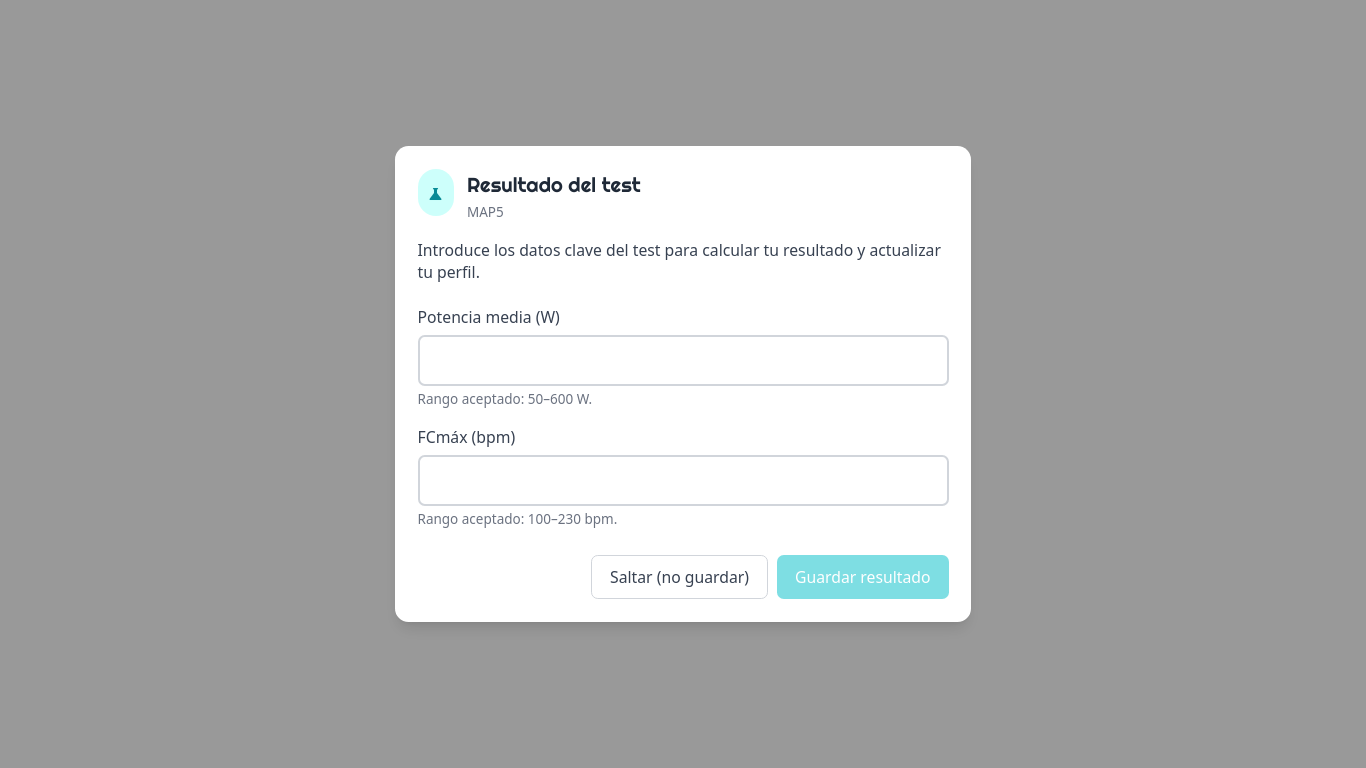
Test: TestResultDialog › protocolos con 2 inputs requieren ambos para habilitar Guardar
Type "280" into the number field labelled "Potencia media (W) Rango aceptado: 50–600 W." at (683,360), box [418,335,948,386]
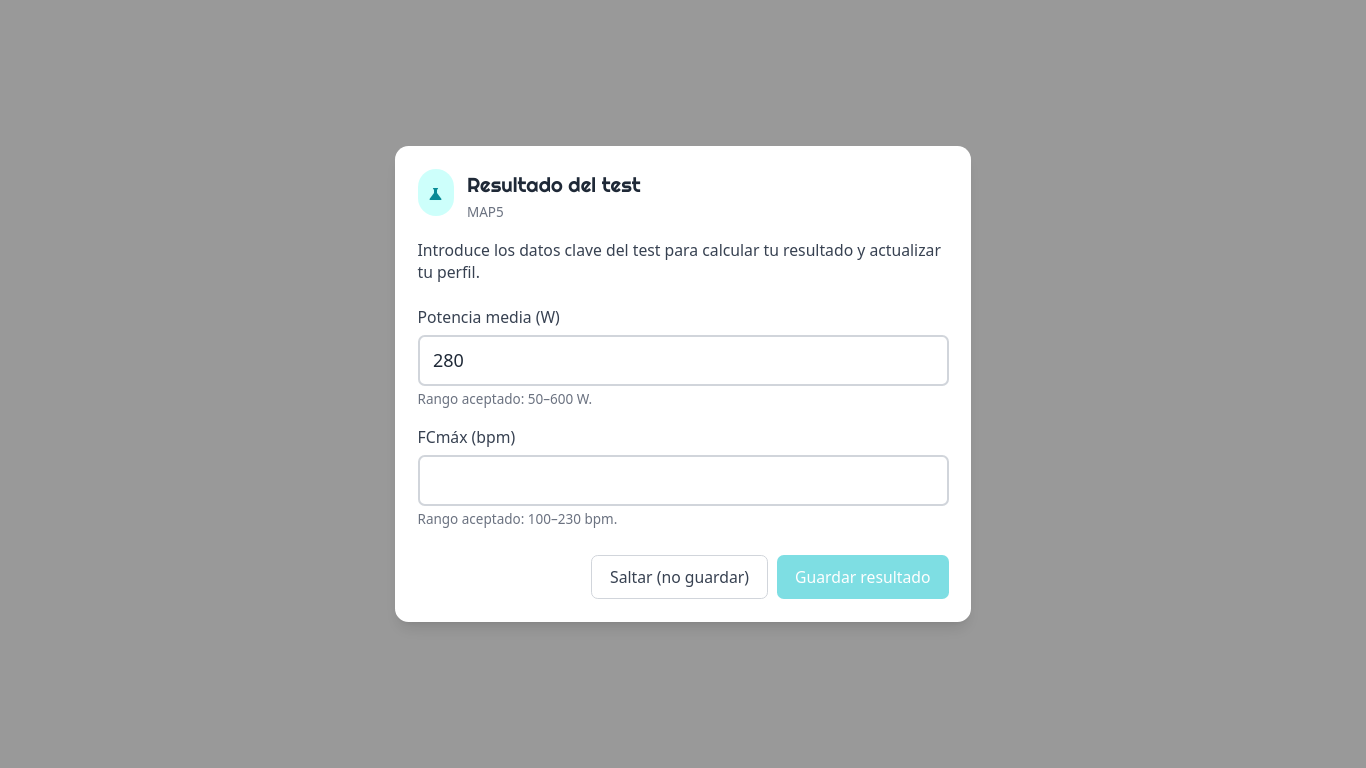
Expected: the button "Guardar resultado" is disabled, [777,555,948,599]
Type "188" into the number field labelled "FCmáx (bpm) Rango aceptado: 100–230 bpm." at (683,480), box [418,455,948,506]
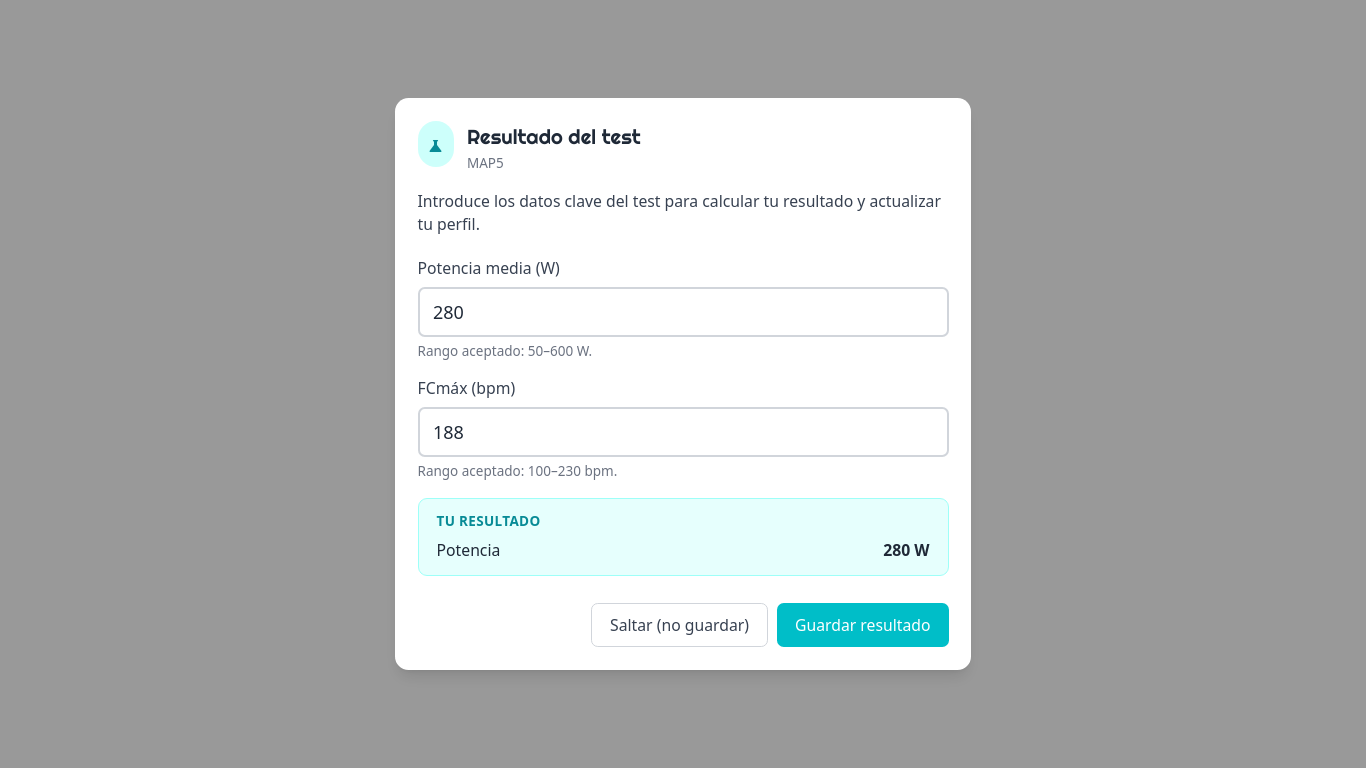
Expected: the button "Guardar resultado" is enabled, [777,604,948,648]
